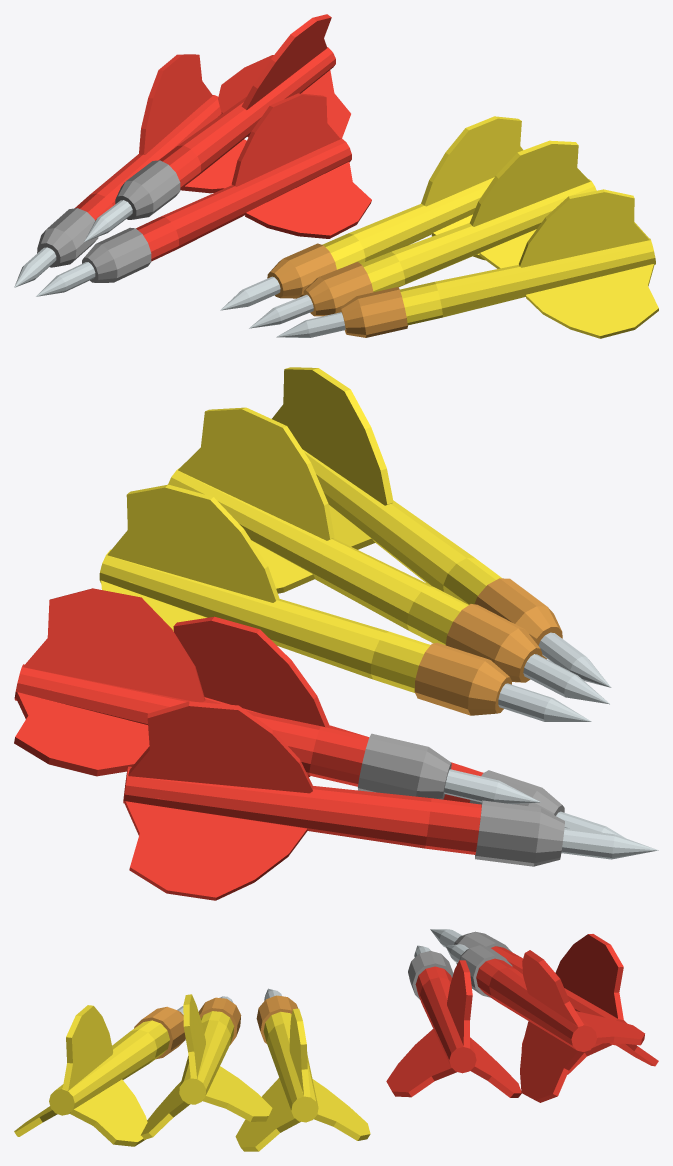
File: dart.glb
3 renders of one model, top to bottom at view 1: azimuth 30°, elevation 25°; view 2: azimuth 150°, elevation 25°; view 3: azimuth 270°, elevation 25°, orthographic. The views are drawn at different scales.
Parts seen in each view (by area): view 1: Node; view 2: Node; view 3: Node.
Boxes of the visible parts, x1,y1,x2,y2 form: Node: [14, 14, 658, 338]; Node: [14, 367, 658, 900]; Node: [14, 929, 658, 1151].
Size of the model in its own units: 0.5705 by 0.1849 by 0.6568.
